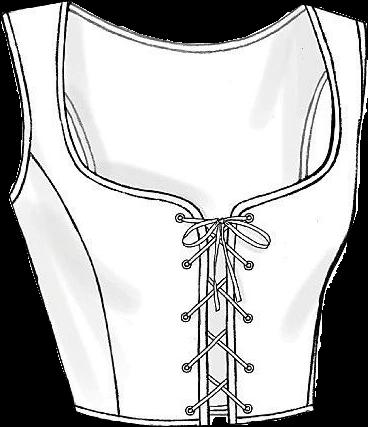Bodice: (2, 2, 365, 425)
Neckline: (60, 0, 336, 222)
Waistline: (75, 403, 317, 426)
